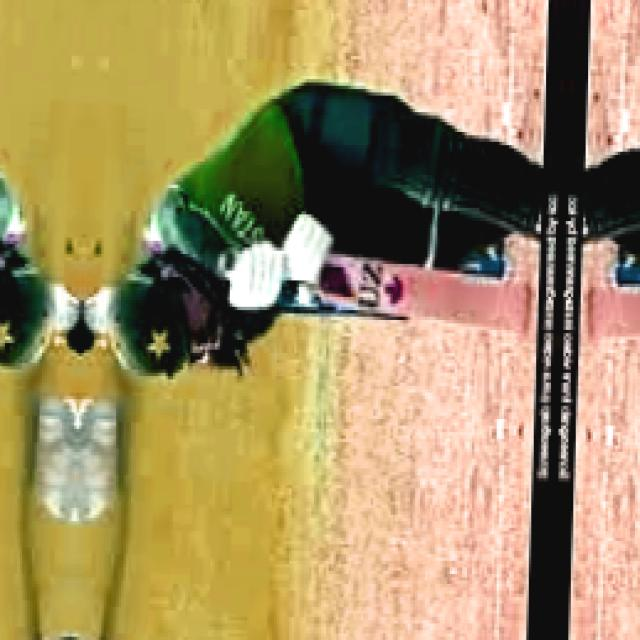toe: (448, 269, 534, 342)
